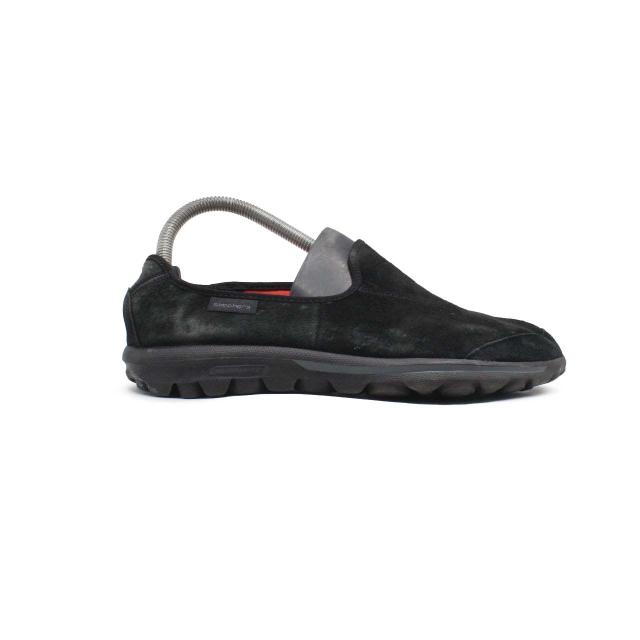heel: (124, 257, 207, 348)
midsole: (122, 345, 563, 406)
uppersole: (207, 239, 559, 360)
